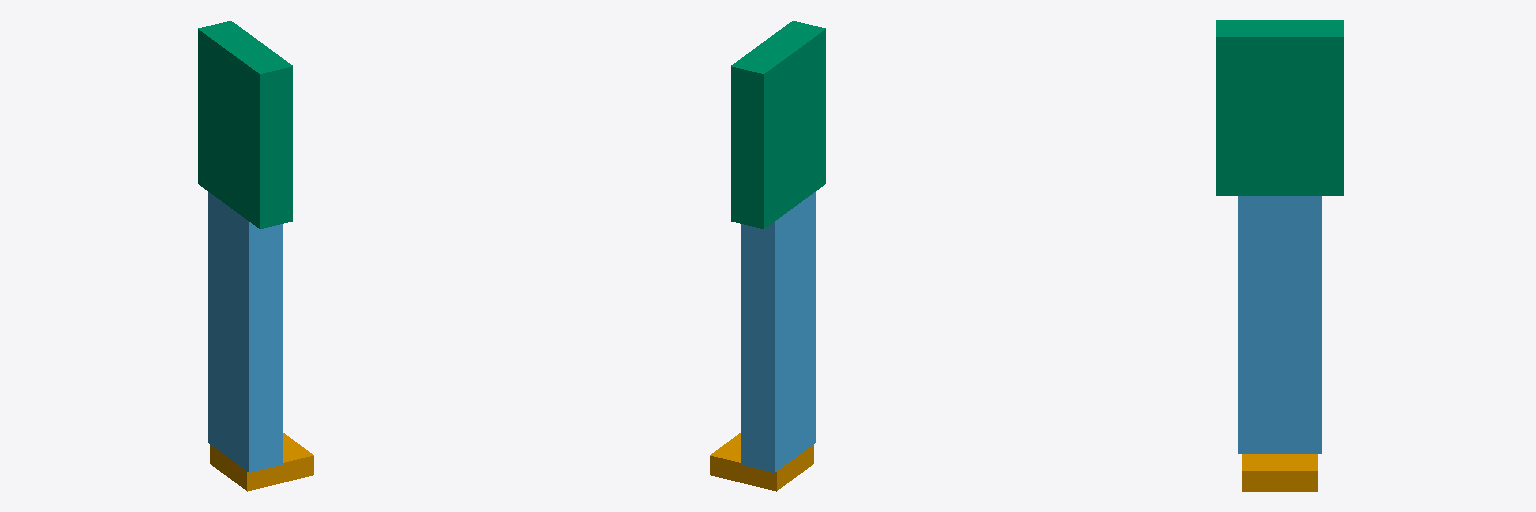
robot.urdf — threeLinkHuman_subject2:
<robot name="threeLinkHuman_subject2">
    <link name="foot">
        <inertial>
            <mass value="4.3874"/>
            <origin xyz="0 0 0.031501" rpy="0 0 0" />
            <inertia ixx="0.018252" iyy="0.019492" izz="0.034841" ixy="0" ixz="0" iyz="0"/>
        </inertial>

        <visual>
			<origin xyz="0 0 0.031501" rpy="0 0 0" />
            <geometry>
                <box size="0.22213 0.21436 0.063002"/>
            </geometry>
        </visual>

        <collision>
			<origin xyz="0 0 0.031501" rpy="0 0 0" />
            <geometry>
                <box size="0.22213 0.21436 0.063002"/>
            </geometry>
        </collision>
    </link>
    
    <link name="leg">
        <inertial>
            <mass value="30.6263"/>
            <origin xyz="0 0 0.39885" rpy="0 0 0" />
            <inertia ixx="1.7666" iyy="1.6555" izz="0.17407" ixy="0" ixz="0" iyz="0"/>
        </inertial>

        <visual>
            <origin xyz="0 0 0.39885" rpy="0 0 0" />
            <geometry>
                <box size="0.11107 0.23637 0.7977"/>
            </geometry>
        </visual>

        <collision>
            <origin xyz="0 0 0.39885" rpy="0 0 0" />
            <geometry>
                <box size="0.11107 0.23637 0.7977"/>
            </geometry>
        </collision>
    </link>
    
    <link name="torso">
        <inertial>
            <mass value="28.6792"/>
            <origin xyz="0 0 0.24607" rpy="0 0 0" />
            <inertia ixx="0.88647" iyy="0.60834" izz="0.33708" ixy="0" ixz="0" iyz="0"/>
        </inertial>

        <visual>
            <origin xyz="0 0 0.24607" rpy="0 0 0" />
            <geometry>
                <box size="0.11107 0.35876 0.49215"/>
            </geometry>
        </visual>

        <collision>
            <origin xyz="0 0 0.24607" rpy="0 0 0" />
            <geometry>
                <box size="0.11107 0.35876 0.49215"/>
            </geometry>
        </collision>
    </link>
        
    <joint name="ankle" type="revolute">
        <origin xyz="-0.055533 0 0.063002" rpy="0 0 0"/>
        <parent link="foot"/>
        <child link="leg"/>
        <dynamics damping="0.1" friction="0.0"/>
        <limit effort="30" velocity="1.0" lower="-10.0" upper="10.0" />
        <axis xyz="0 1 0" />
    </joint>
    
    <joint name="hip" type="revolute">
        <origin xyz="0 0 0.7977" rpy="0 0 0"/>
        <parent link="leg"/>
        <child link="torso"/>
        <dynamics damping="0.1" friction="0.0"/>
        <limit effort="30" velocity="1.0" lower="-10.0" upper="10.0" />
        <axis xyz="0 1 0" />
    </joint>

</robot>

--- Render facts (derived) ---
The picture shows the robot from 3 angles, left to right: view 1: azimuth 30°, elevation 25°; view 2: azimuth 150°, elevation 25°; view 3: azimuth 270°, elevation 25°; orthographic projection.
Robot: threeLinkHuman_subject2 — 3 links, 2 joints (2 revolute); root link foot; default pose: all joints at 0.
Links seen in each view (by area): view 1: leg, torso, foot; view 2: leg, torso, foot; view 3: torso, leg, foot.
Boxes of the visible links, x1,y1,x2,y2 form: leg: (208,192,282,472); torso: (198,21,292,228); foot: (210,433,313,491); leg: (741,192,815,472); torso: (731,21,825,228); foot: (710,433,813,491); torso: (1216,20,1343,195); leg: (1238,196,1321,453); foot: (1242,454,1317,491).
Size in the robot's own frame: 0.2221 by 0.3588 by 1.35 metres.
Geometry: primitives only (box / cylinder / sphere), no mesh files.
